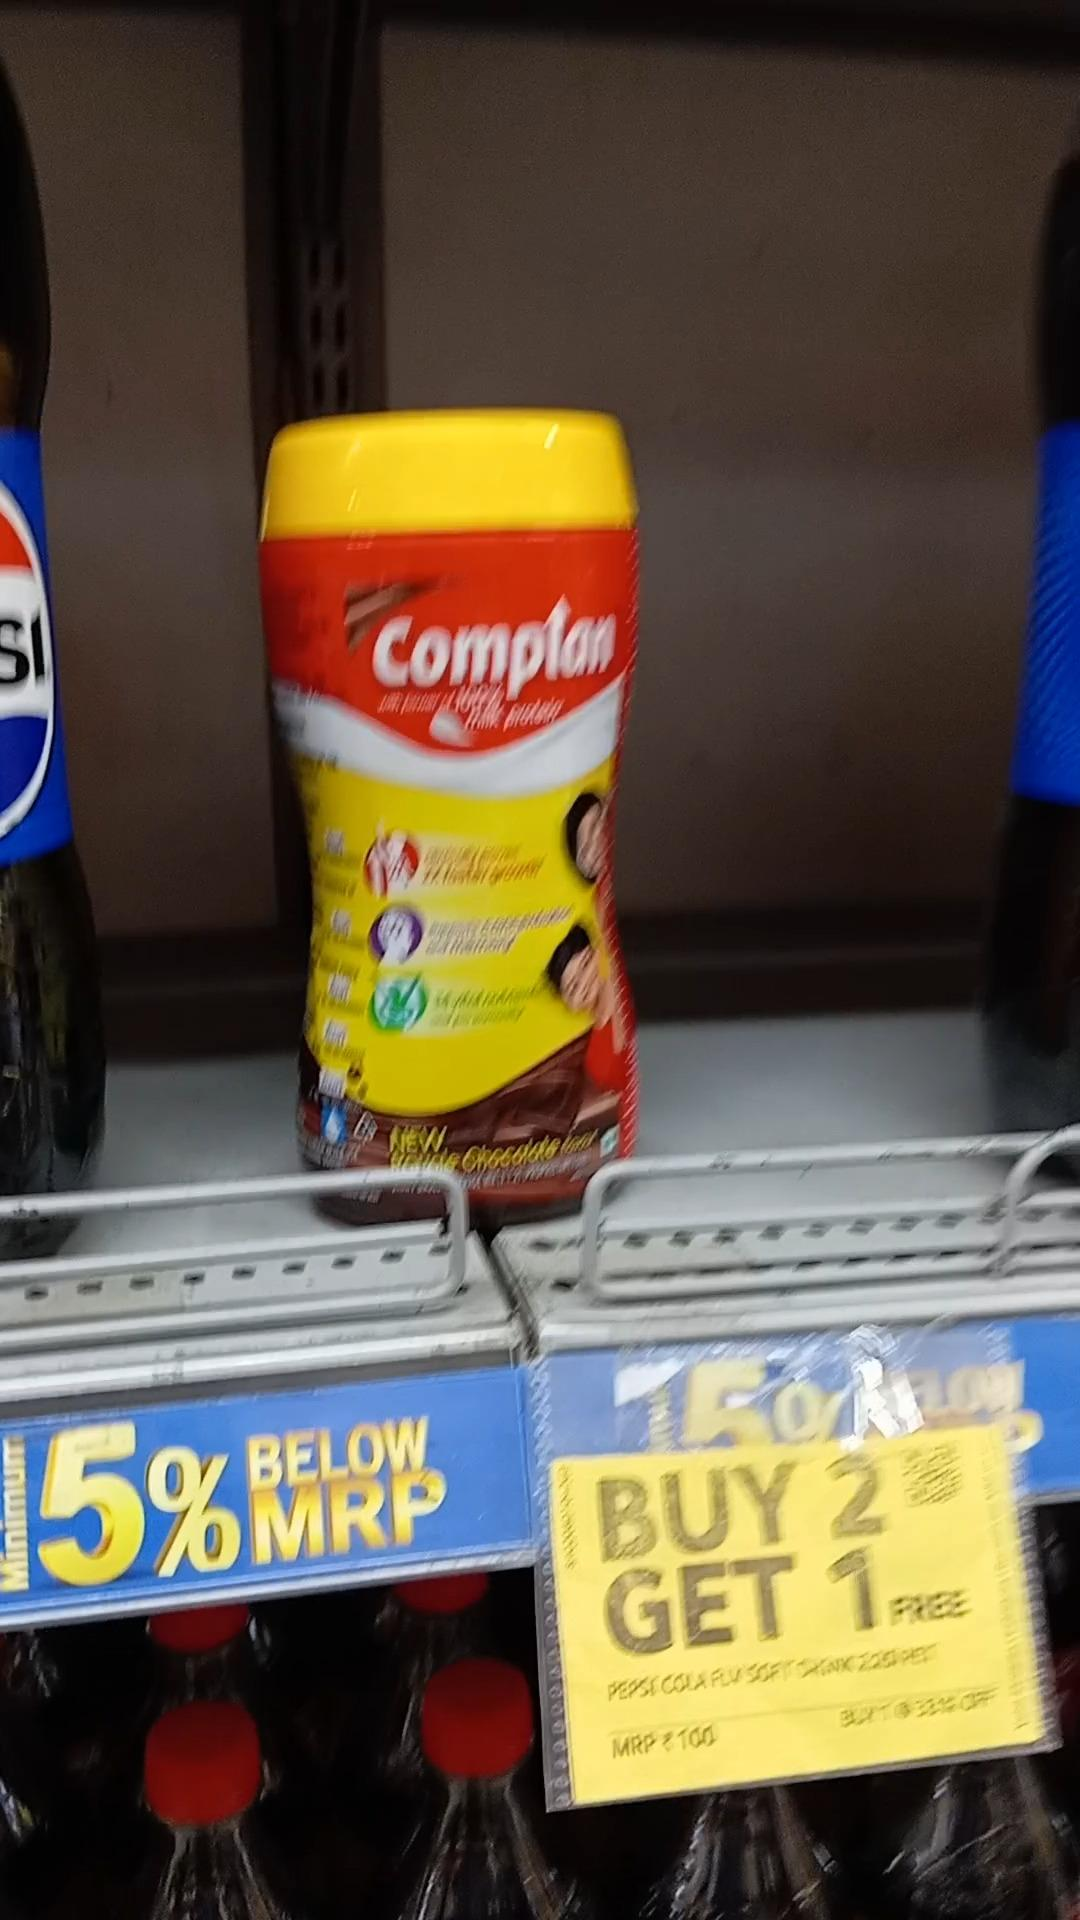COMPLAN_CHOCOLATE_500_GMS_JAR: (265, 421, 649, 1221)
